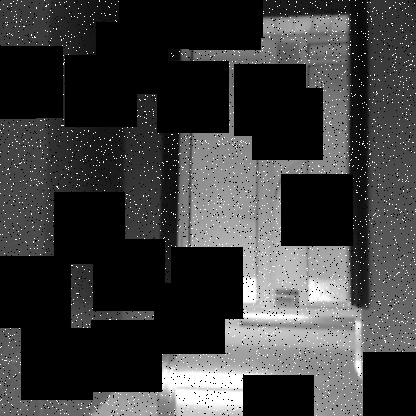Porte: (152, 1, 372, 340)
